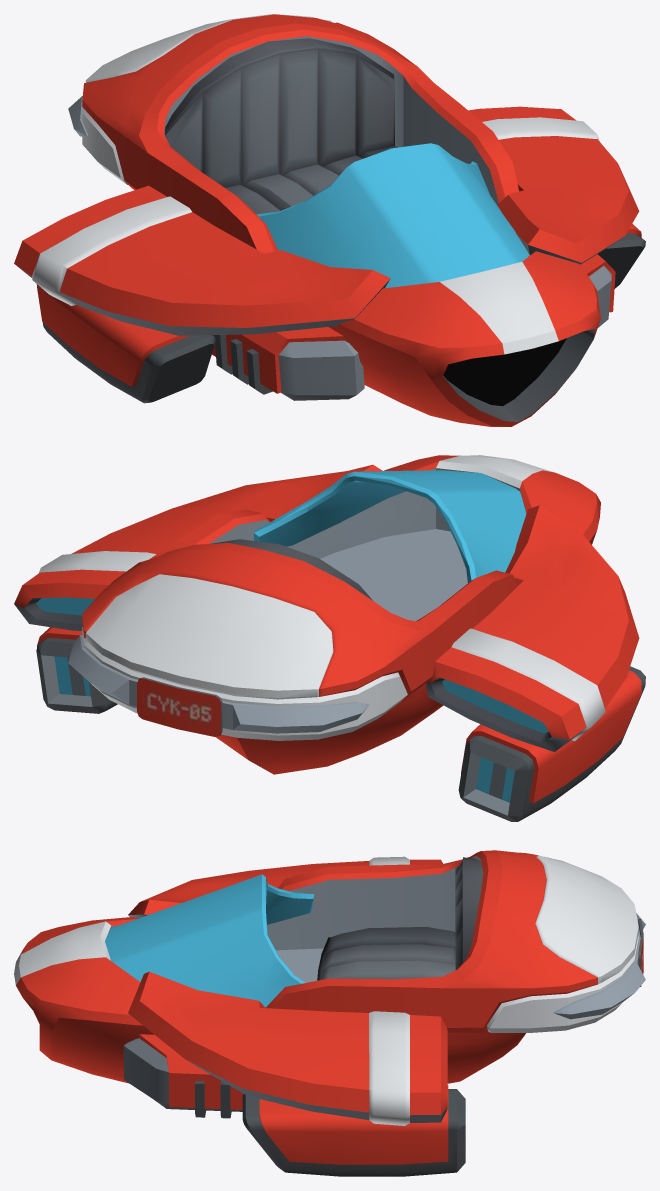
The model's file is speeder.glb.
The picture shows the model from 3 angles, top to bottom: view 1: azimuth 30°, elevation 25°; view 2: azimuth 150°, elevation 25°; view 3: azimuth 270°, elevation 25°; orthographic projection. The views are drawn at different scales.
Visible parts, largest first — view 1: SPEEDER; view 2: SPEEDER; view 3: SPEEDER.
Part boxes in pixels (x1,y1,x2,y2): SPEEDER: (14,14,645,426); SPEEDER: (14,455,645,821); SPEEDER: (14,850,645,1176).
Size of the model in its own units: 1.97 by 0.8429 by 2.17.
Materials: 1 (1 with a texture image).
